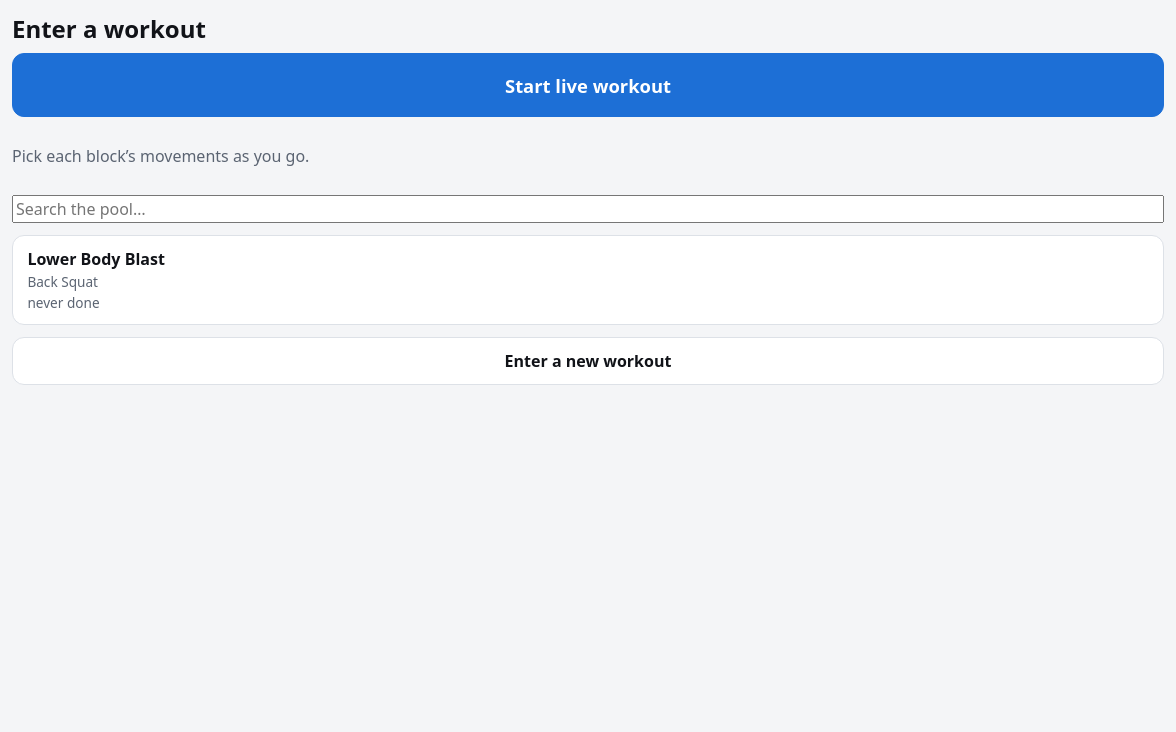
EnterWorkout ("/enter" screen, SPEC 10.8) › search mode › lists a pool workout and expanding it shows Start
Click the text "Lower Body Blast" at {"x": 96, "y": 259}, box [27,248,165,270]
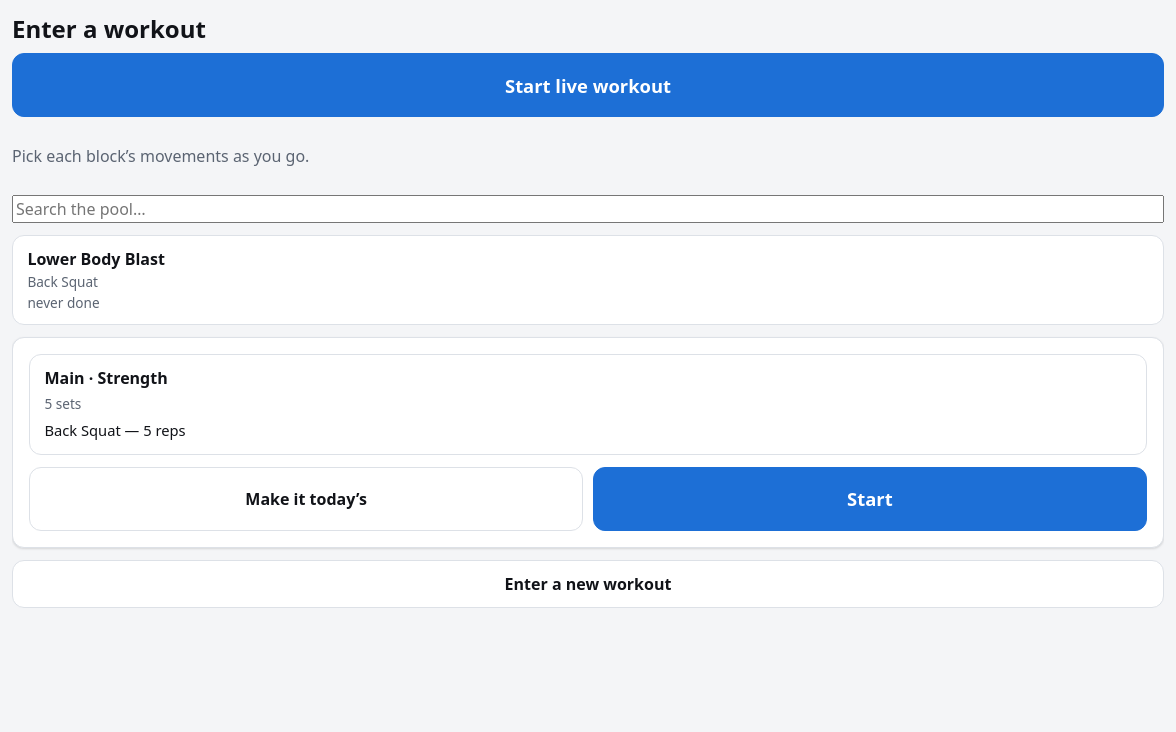
Check: the button "Start" is shown, box [593,467,1147,531]
Check: the button "Make it today’s" is shown, box [29,467,583,531]
